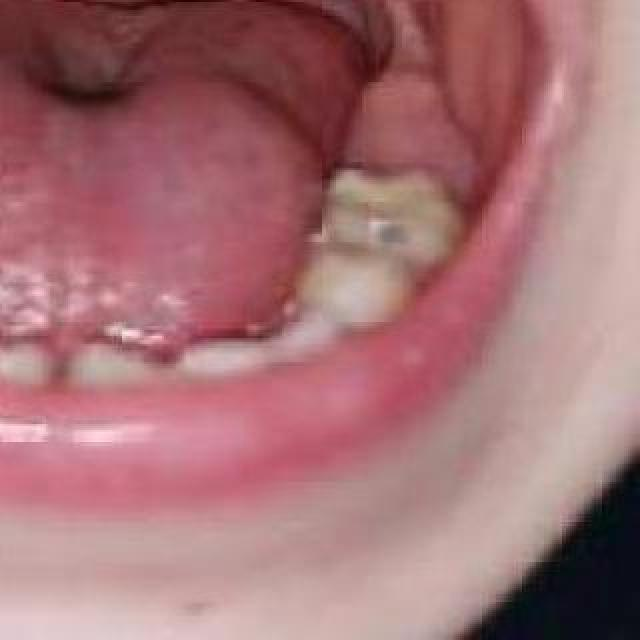spacing: (20, 331, 102, 417)
